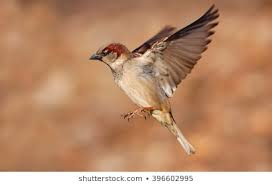hsparrow: (85, 8, 243, 159)
